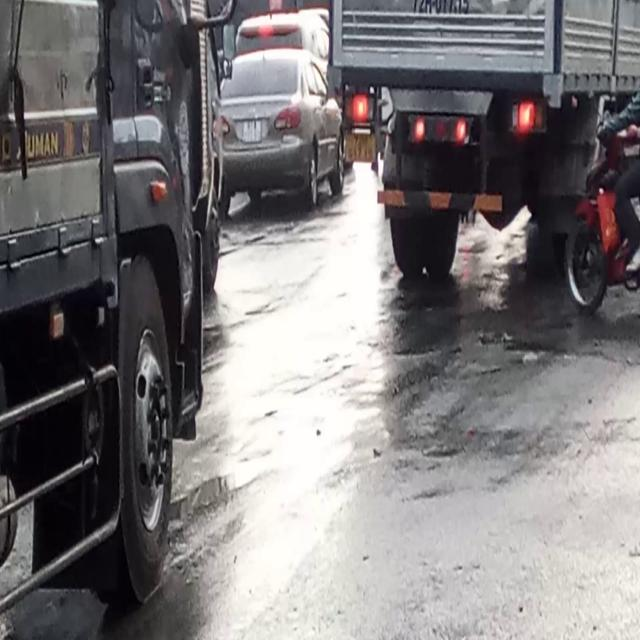bien_vang: (344, 134, 378, 164)
